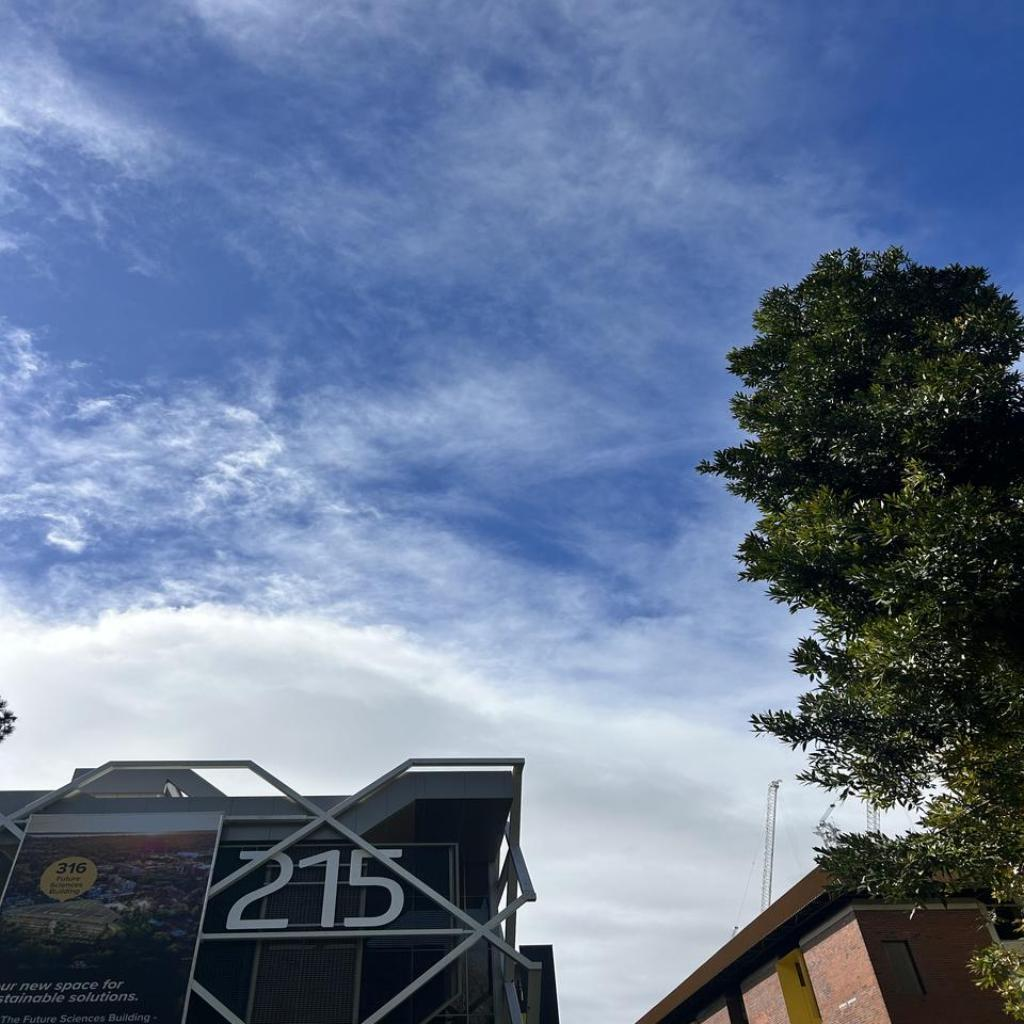BuildingCodes: (221, 846, 407, 932)
